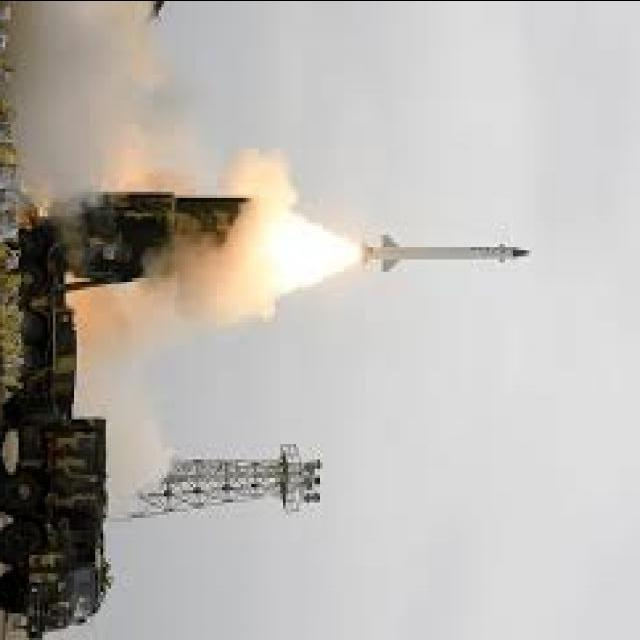missile: (347, 229, 545, 274)
